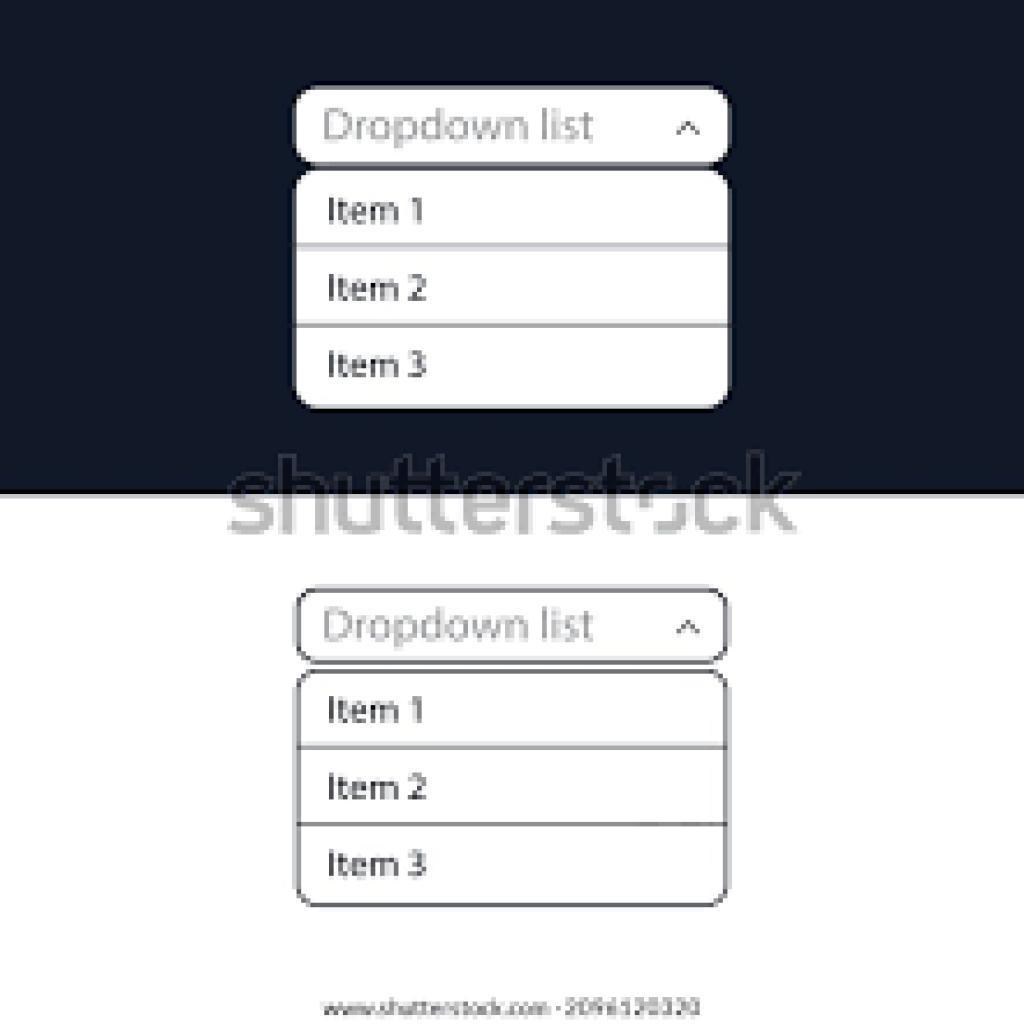dropdown: (297, 588, 731, 668), (294, 90, 732, 169)
